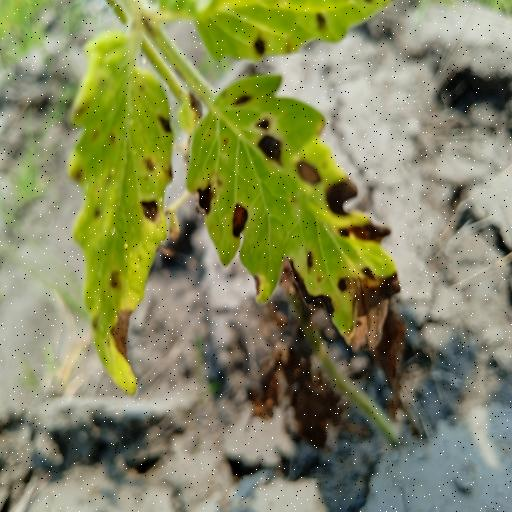Tomato_Brown_Spots: (184, 61, 403, 354), (62, 28, 175, 392)
